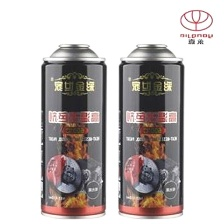aerosol_cans: (35, 40, 109, 221), (116, 39, 186, 220)
